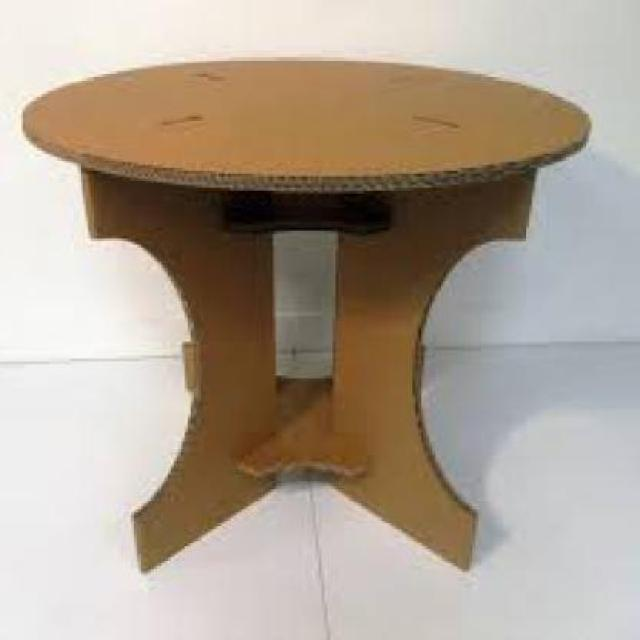CARDBOARD: (82, 168, 535, 572), (26, 55, 594, 193)
